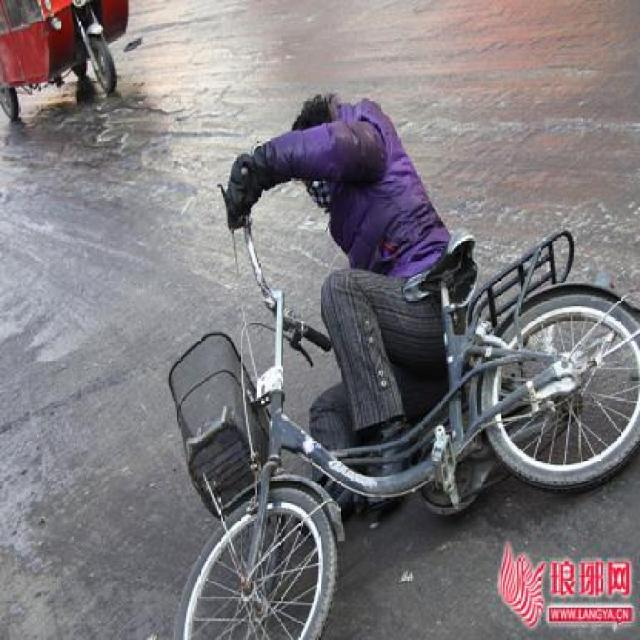fall: (212, 66, 497, 508)
